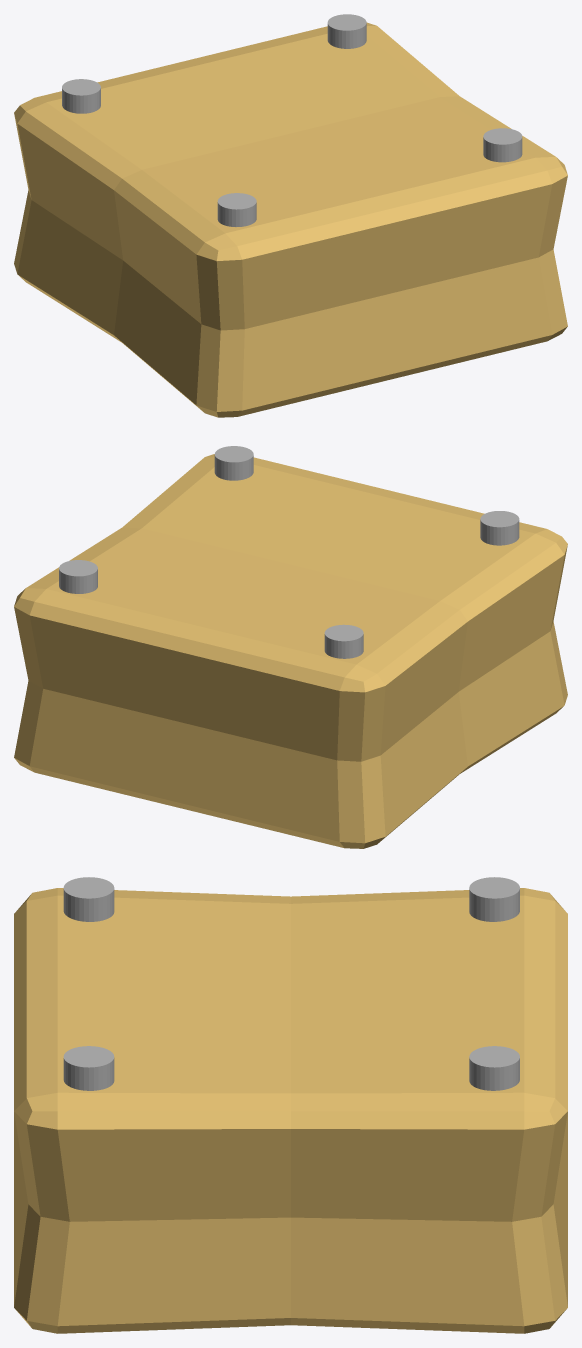
The model's file is badan button.fbx.
3 views of the same model, one above another, from view 1: azimuth 30°, elevation 25°; view 2: azimuth 150°, elevation 25°; view 3: azimuth 270°, elevation 25° (orthographic). The views are drawn at different scales.
Visible parts, largest first — view 1: Cylinder.006; view 2: Cylinder.006; view 3: Cylinder.006.
Boxes of the visible parts, <box> form: Cylinder.006: <box>14,14,567,417</box>; Cylinder.006: <box>14,446,567,848</box>; Cylinder.006: <box>14,877,567,1333</box>.
Bounding box in the file's own units: 82.99 × 42.35 × 82.99.
